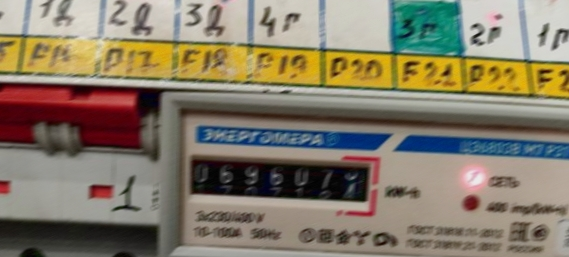0: (293, 166, 309, 189), (193, 163, 208, 185)
4: (342, 182, 356, 203)
6: (218, 163, 233, 185), (268, 166, 283, 187)
7: (317, 169, 334, 191)
9: (243, 165, 257, 186)
screen: (174, 145, 384, 216)
